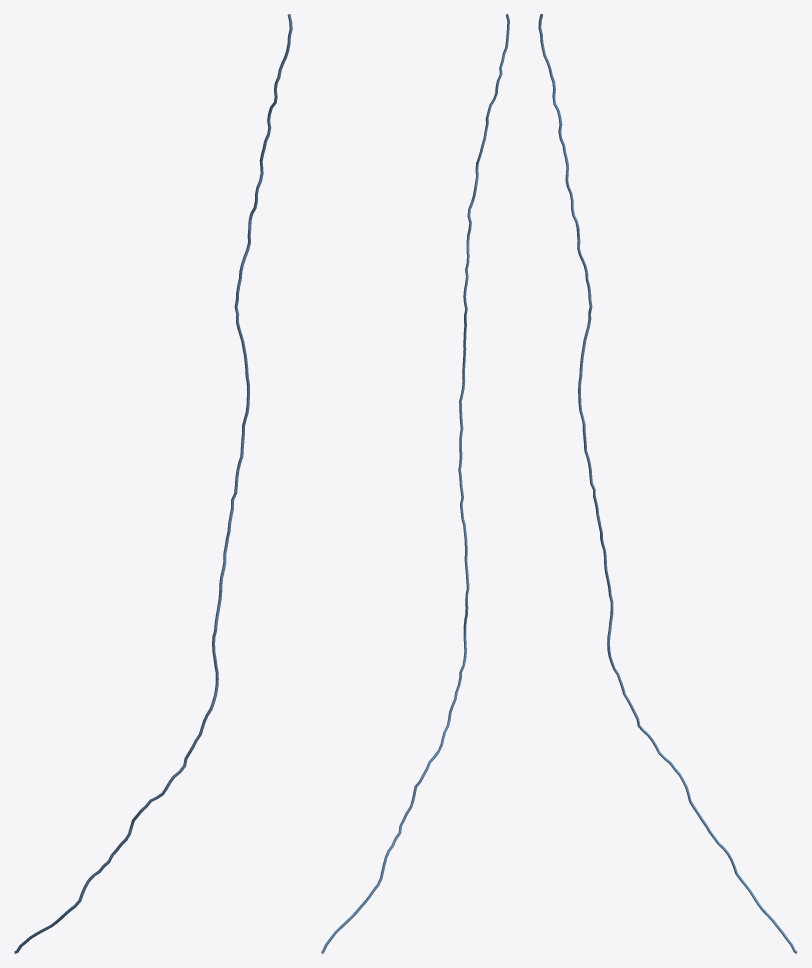
File: sweep21.fbx
3 renders of one model, left to right at view 1: azimuth 90°, elevation 25°; view 2: azimuth 150°, elevation 25°; view 3: azimuth 270°, elevation 25°, orthographic. The views are drawn at different scales.
Visible parts, largest first — view 1: sweep21; view 2: sweep21; view 3: sweep21.
Boxes of the visible parts, box(x1,y1,x2,y2) form: sweep21: box(14, 14, 292, 953); sweep21: box(321, 14, 509, 953); sweep21: box(538, 14, 797, 953).
Bounding box in the file's own units: 0.5596 × 6.98 × 1.81.
